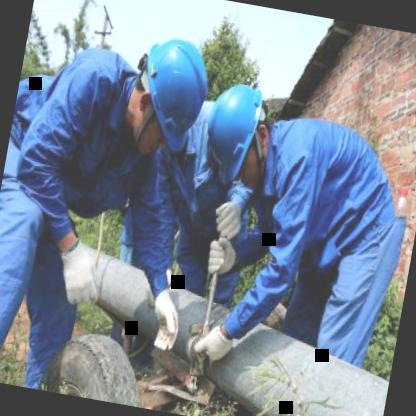helmet: (118, 21, 224, 162), (184, 75, 268, 190)
